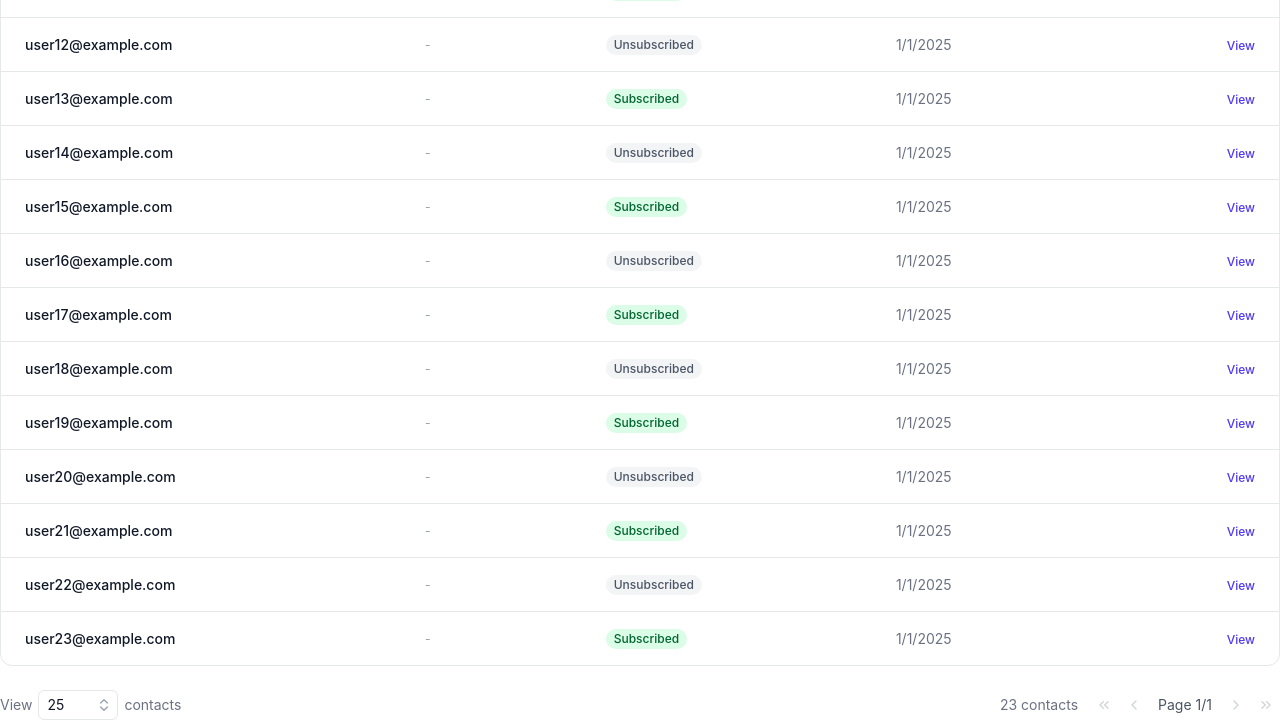
Test: Contacts › changes per-page via the dropdown and paginates
(page scrolled)
expect the text "23 contacts" is shown: met, box [1000, 695, 1078, 715]
Step 1. Click the dropdown showing "25" → point(78, 705), box [38, 690, 118, 719]
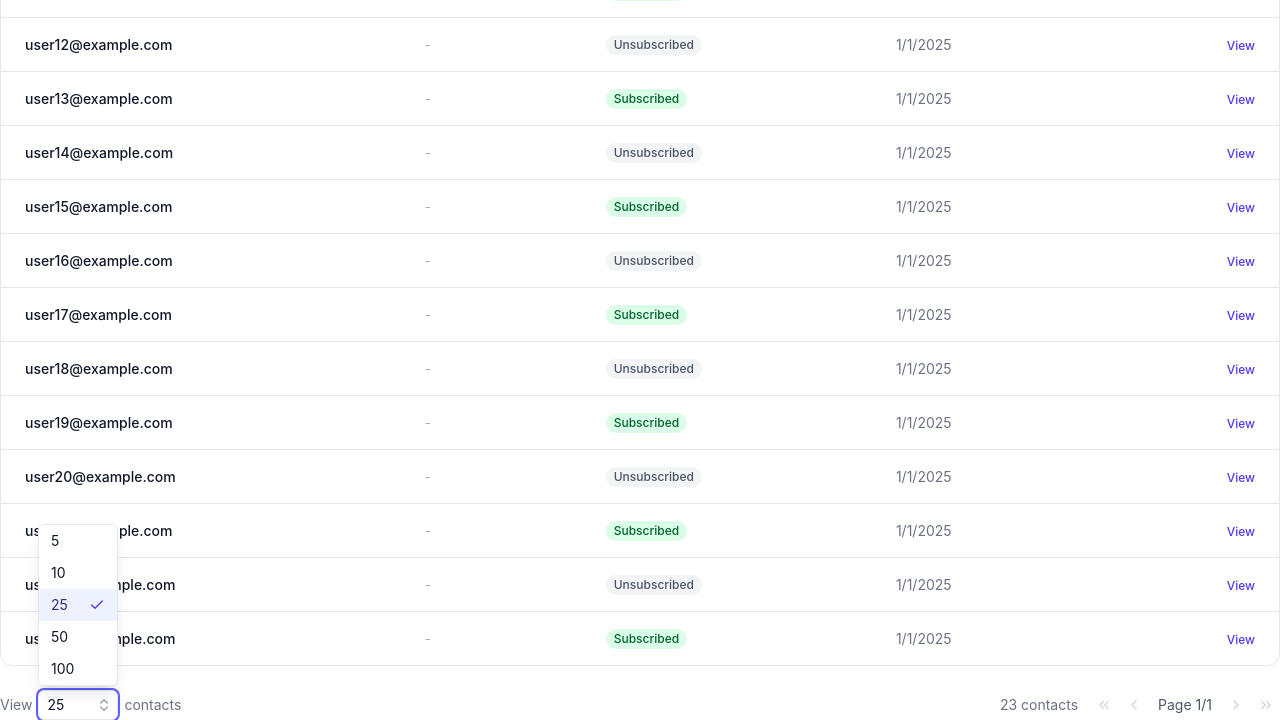
Step 2. Click the option "5" → point(55, 540), box [51, 532, 59, 549]
(page scrolled)
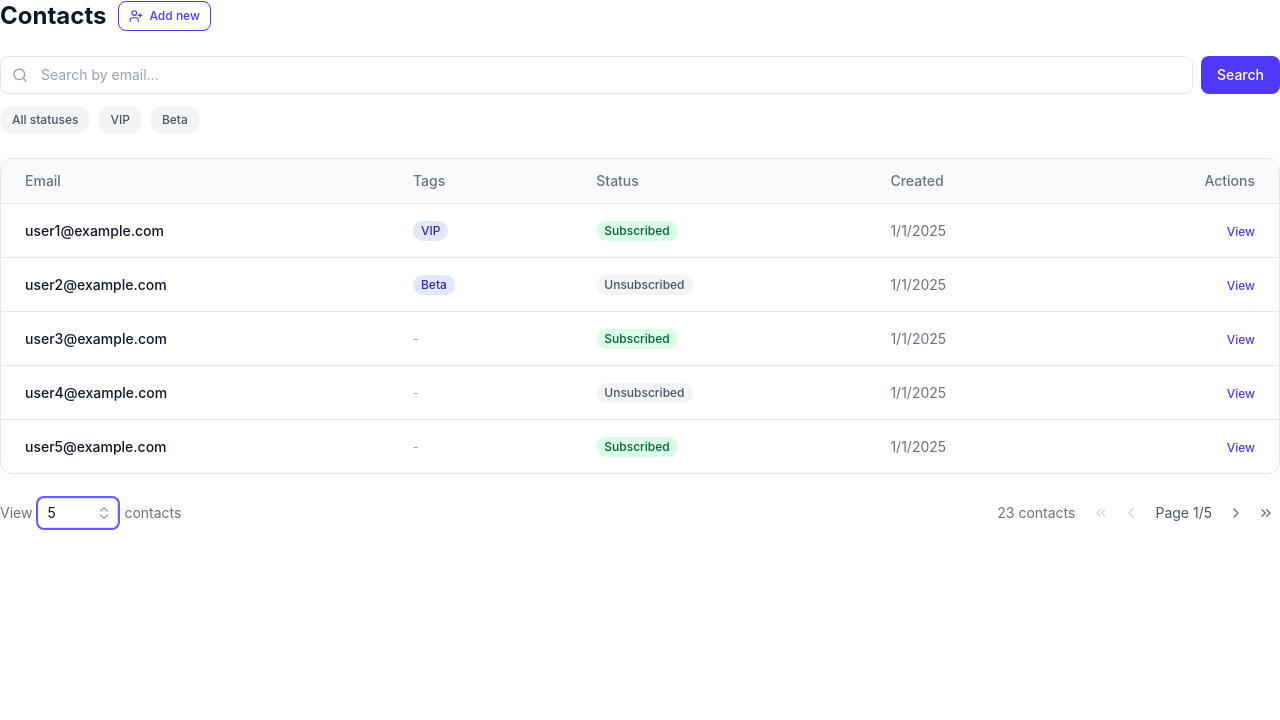
expect the text "Page 1/5" is shown: met, box [1155, 504, 1212, 521]
Step 3. Click the button named "Next page" → point(1236, 513), box [1222, 499, 1250, 527]
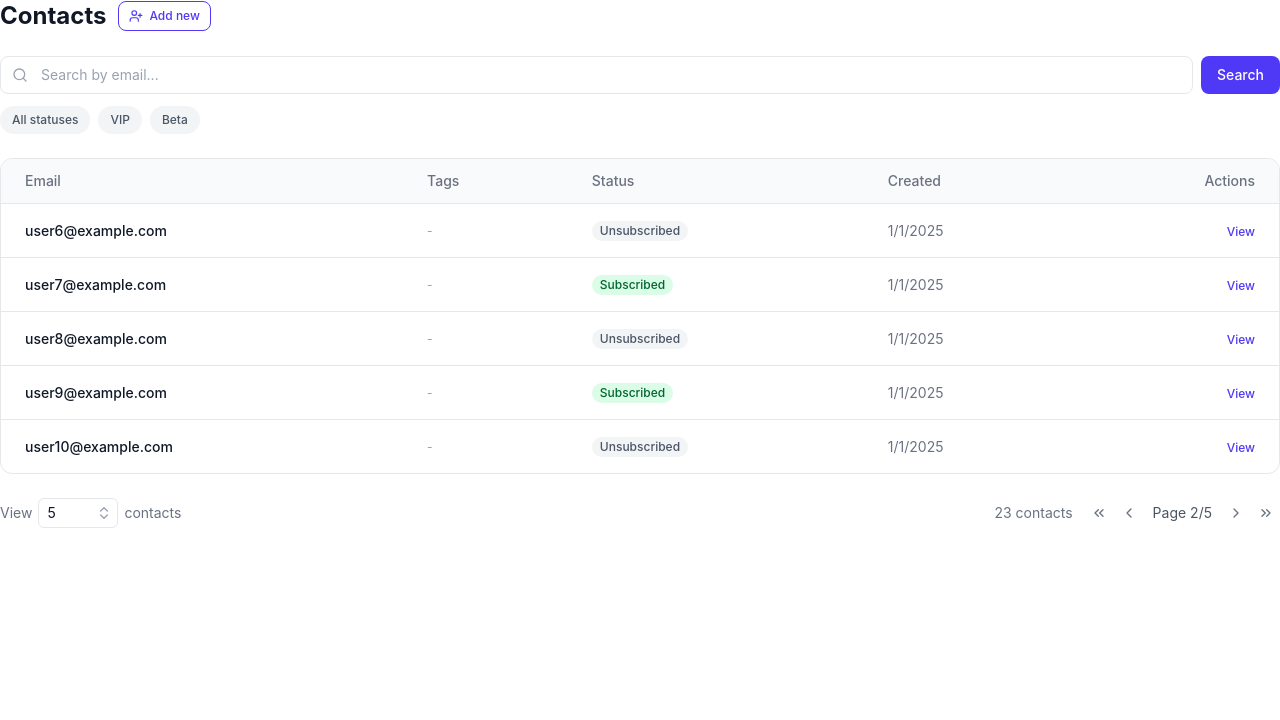
expect the text "Page 2/5" is shown: met, box [1153, 504, 1212, 521]
Step 4. Click the button named "Last page" → point(1266, 513), box [1252, 499, 1279, 527]
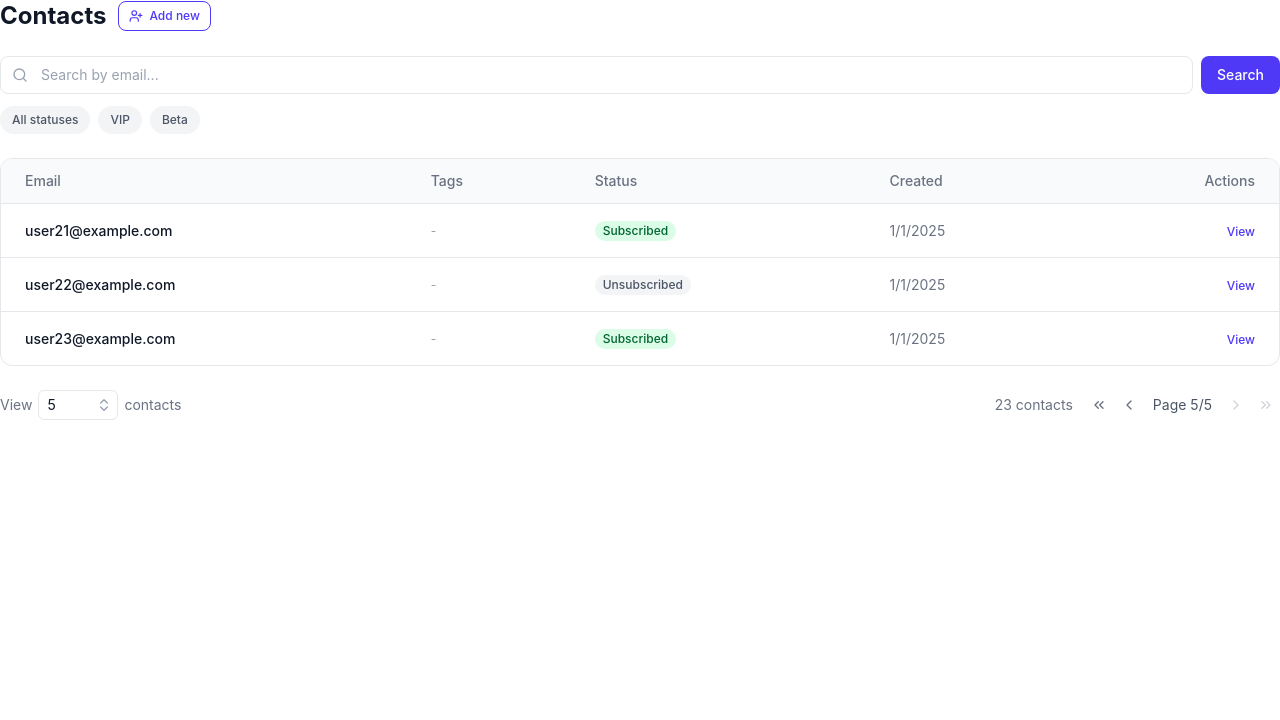
expect the text "Page 5/5" is shown: met, box [1153, 396, 1212, 413]
Step 5. Click the button named "First page" → point(1099, 405), box [1085, 391, 1113, 419]
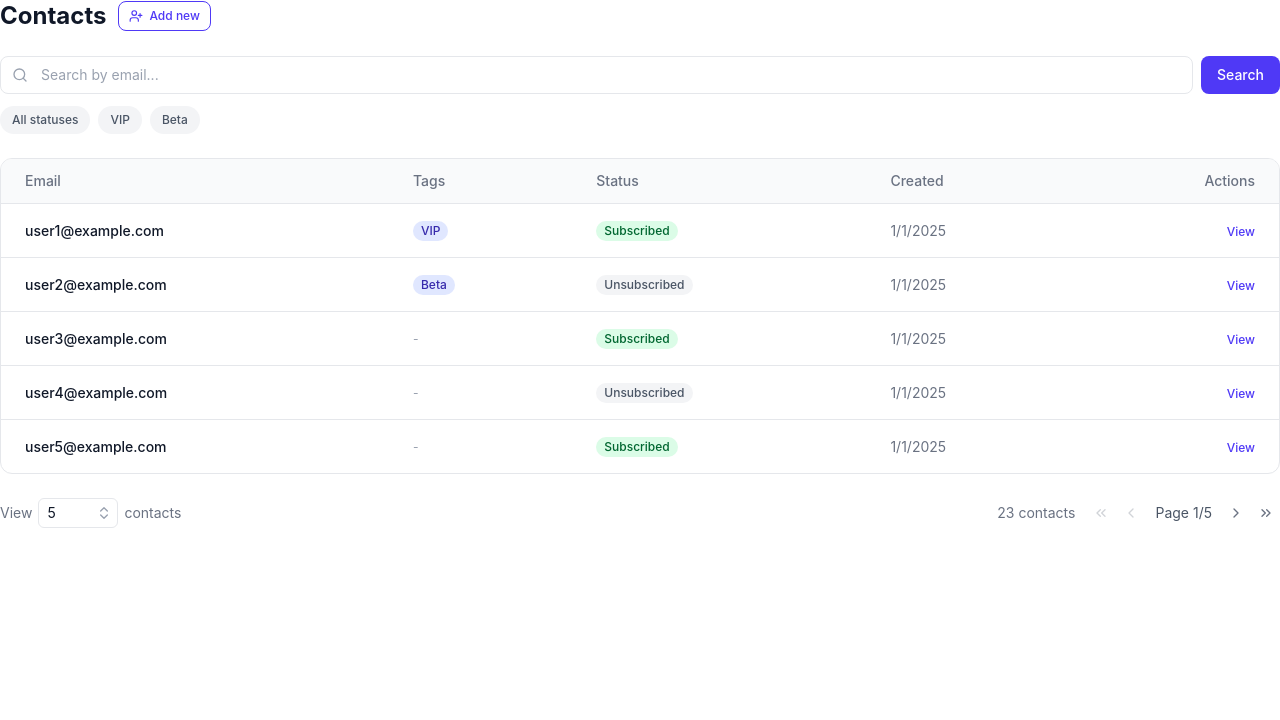
expect the text "Page 1/5" is shown: met, box [1155, 504, 1212, 521]
